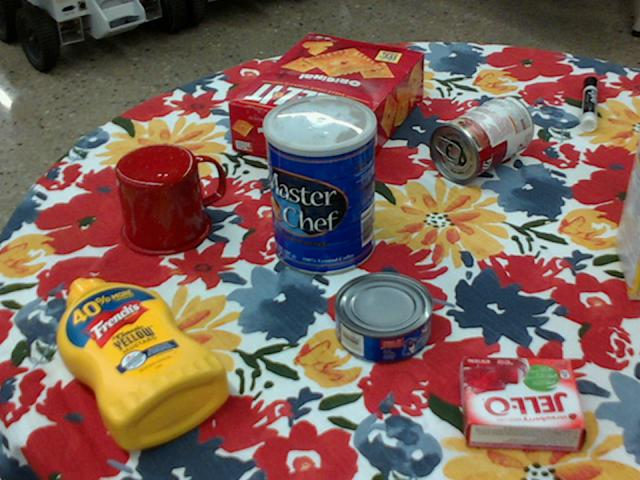cracker_box: (229, 34, 426, 177)
gelatin_box: (463, 357, 588, 452)
large_marker: (580, 76, 598, 130)
master_chef_can: (262, 94, 375, 275)
mug: (114, 143, 223, 256)
mustard_bottle: (57, 278, 230, 449)
sugar_box: (614, 137, 639, 300)
tomato_soup_can: (430, 93, 534, 182)
tuna_fish_can: (334, 273, 434, 364)
